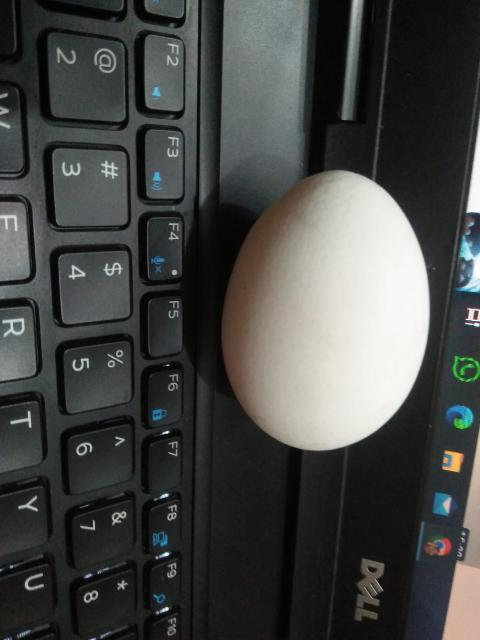Sano: (217, 171, 431, 448)
